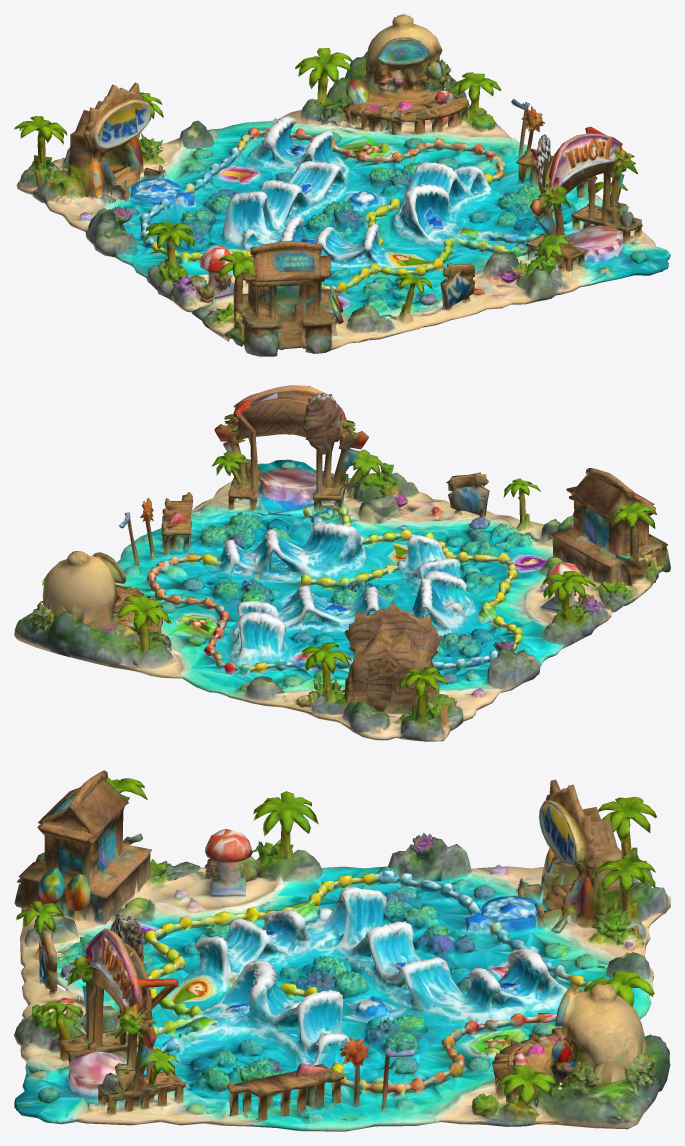
Rendered from surf-break.glb.
3 renders of one model, top to bottom at view 1: azimuth 30°, elevation 25°; view 2: azimuth 150°, elevation 25°; view 3: azimuth 270°, elevation 25°, orthographic. The views are drawn at different scales.
Visible parts, largest first — view 1: Mesh_0; view 2: Mesh_0; view 3: Mesh_0.
Part boxes in pixels (x1,y1,x2,y2): Mesh_0: (14, 14, 670, 356); Mesh_0: (14, 385, 670, 741); Mesh_0: (14, 770, 670, 1131).
Bounding box in the file's own units: 1.86 × 0.4808 × 1.9.
Materials: 1 (1 with a texture image).
